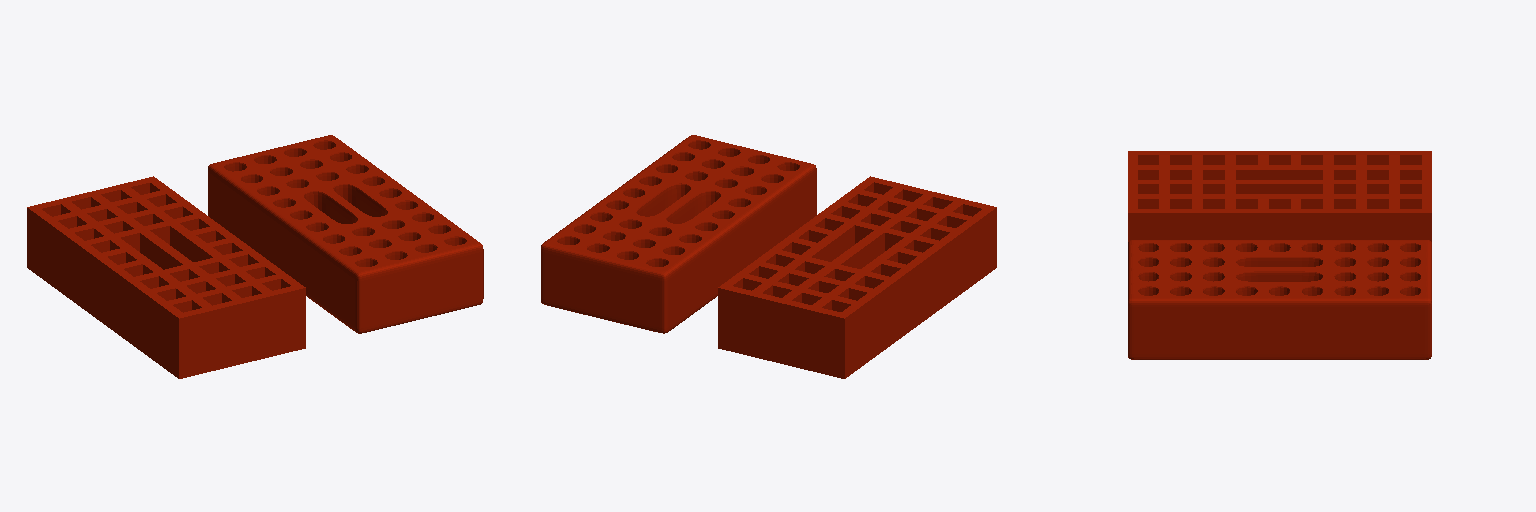
File: Brick.obj
3 views of the same model, side by side, from view 1: azimuth 30°, elevation 25°; view 2: azimuth 150°, elevation 25°; view 3: azimuth 270°, elevation 25° (orthographic).
Visible parts, largest first — view 1: Brick_Cube.015, Brick.001_Cube.000; view 2: Brick_Cube.015, Brick.001_Cube.000; view 3: Brick.001_Cube.000, Brick_Cube.015.
Boxes of the visible parts, box(x1,y1,x2,y2) form: Brick_Cube.015: box(27, 176, 305, 378); Brick.001_Cube.000: box(208, 135, 483, 333); Brick_Cube.015: box(718, 176, 996, 378); Brick.001_Cube.000: box(541, 135, 816, 333); Brick.001_Cube.000: box(1128, 240, 1431, 359); Brick_Cube.015: box(1128, 151, 1431, 241).
Size of the model in its own units: 4.02 by 0.7627 by 3.47.